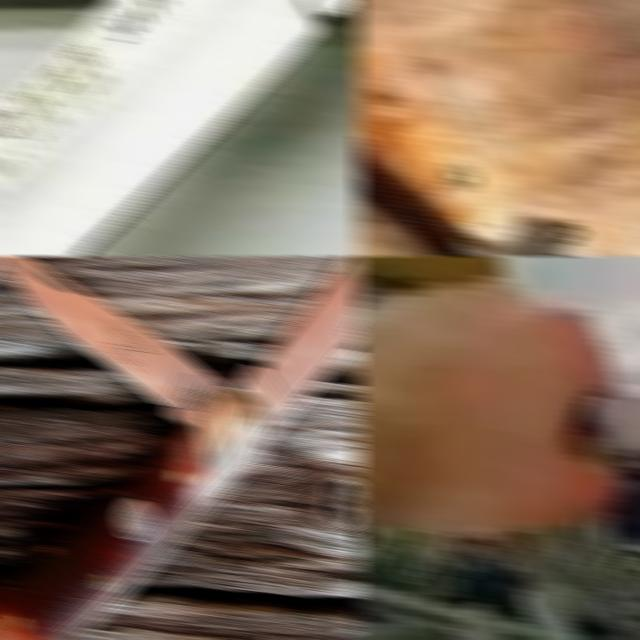Knife: (0, 0, 362, 256), (354, 32, 588, 256)
Knife_Handle: (354, 276, 640, 532)
